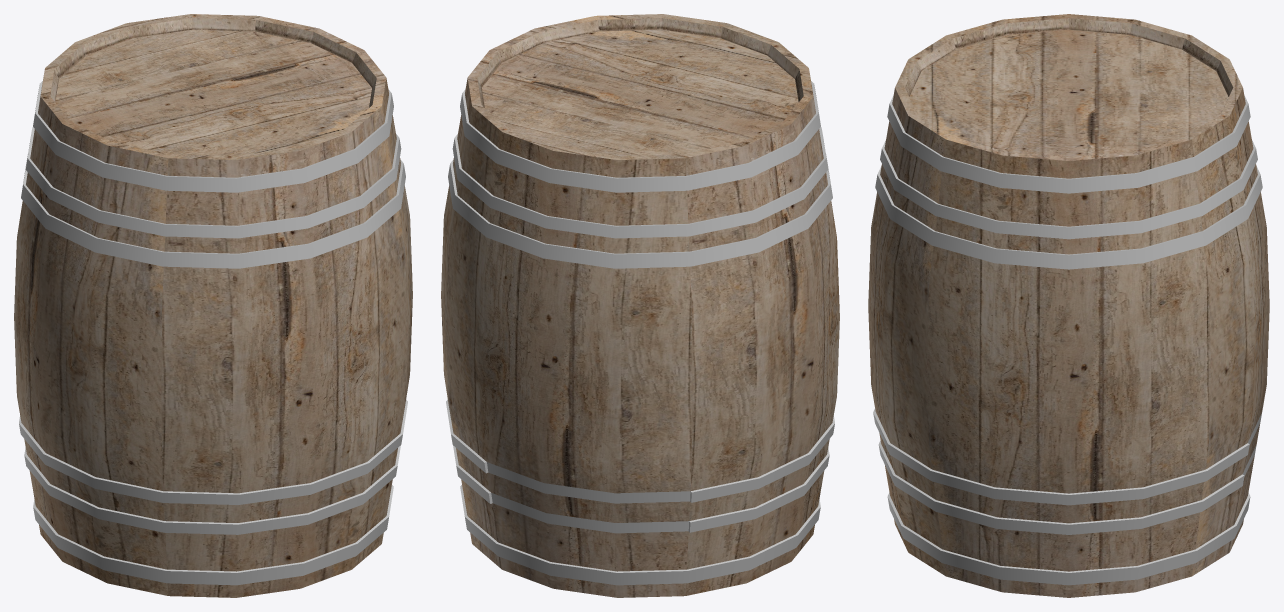
File: woodenBarrel01.FBX
3 views of the same model, side by side, from view 1: azimuth 30°, elevation 25°; view 2: azimuth 150°, elevation 25°; view 3: azimuth 270°, elevation 25° (orthographic).
Visible parts, largest first — view 1: woodenBarrel01; view 2: woodenBarrel01; view 3: woodenBarrel01.
Boxes of the visible parts, bbox=[...] form: woodenBarrel01: bbox=[14, 14, 412, 597]; woodenBarrel01: bbox=[441, 14, 839, 597]; woodenBarrel01: bbox=[868, 14, 1269, 597].
Size of the model in its own units: 0.7496 by 0.9 by 0.7496.
